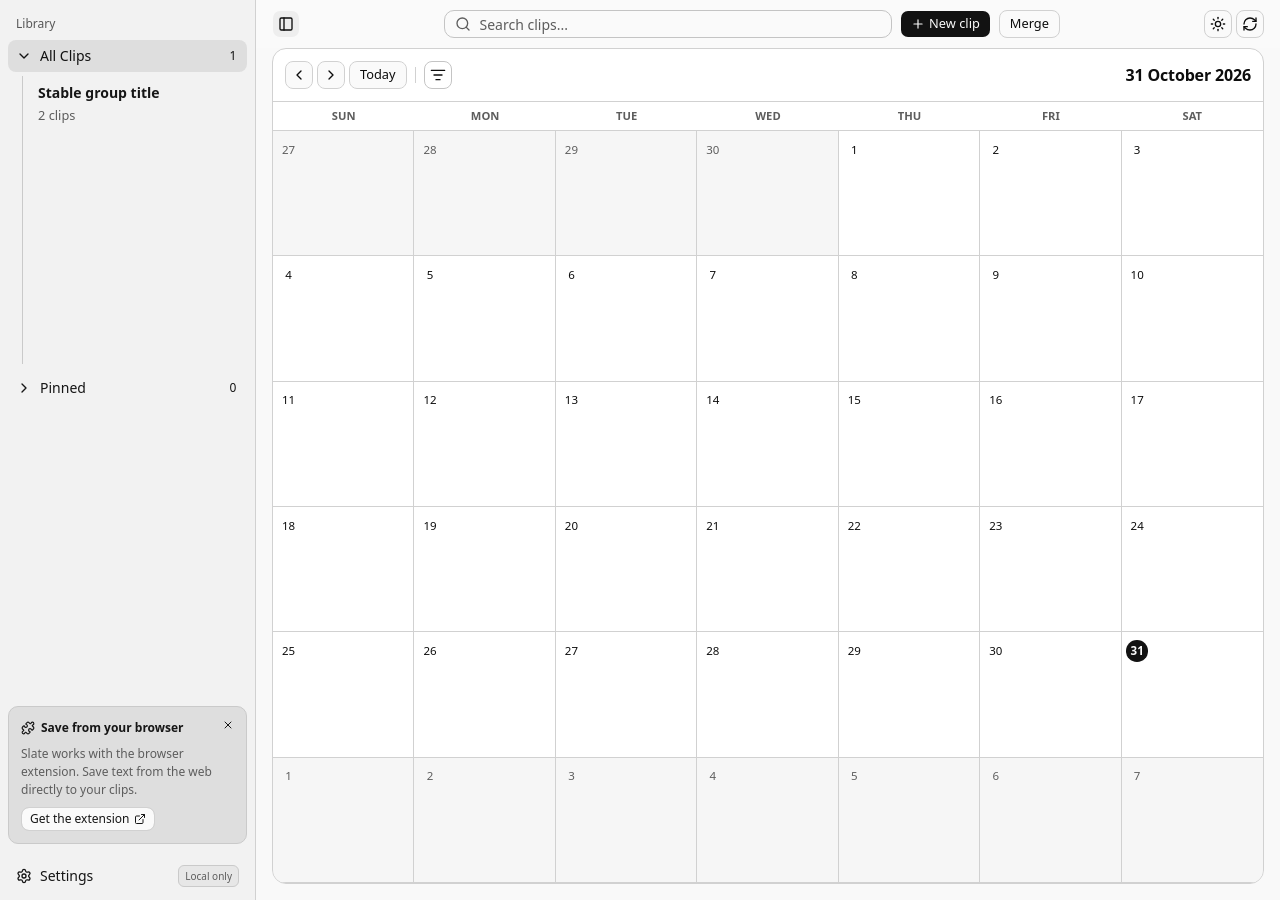
Delete merged clip waits for the shared member save and runs at most once
Step 1. Click the button "Stable group title 2 clips" → coordinates (138, 104), box [29, 76, 247, 132]
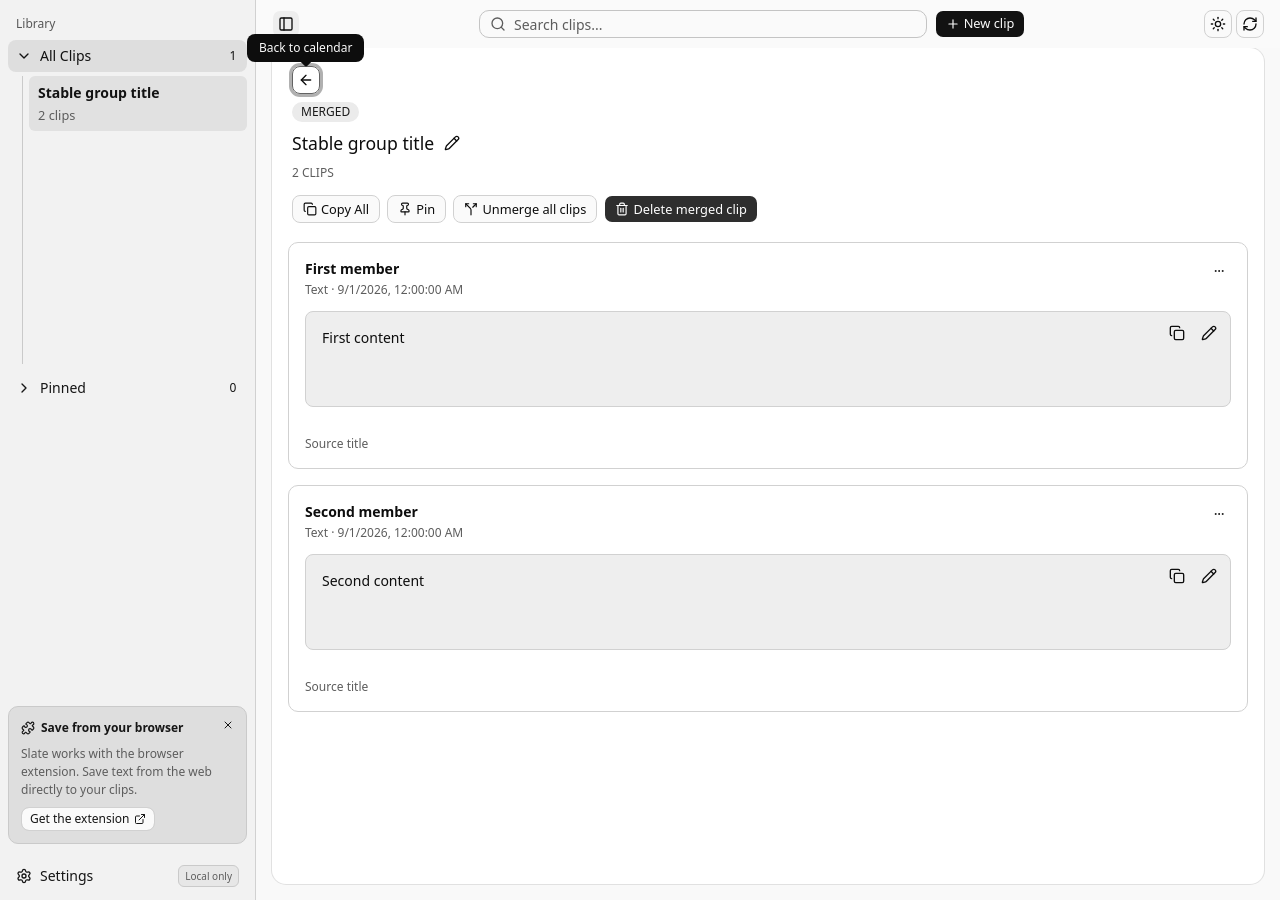
Check: the heading "Stable group title" is shown, box [292, 131, 434, 155]
Step 2. Click the button named "Edit content: First member" → coordinates (1209, 333), box [1195, 319, 1223, 347]
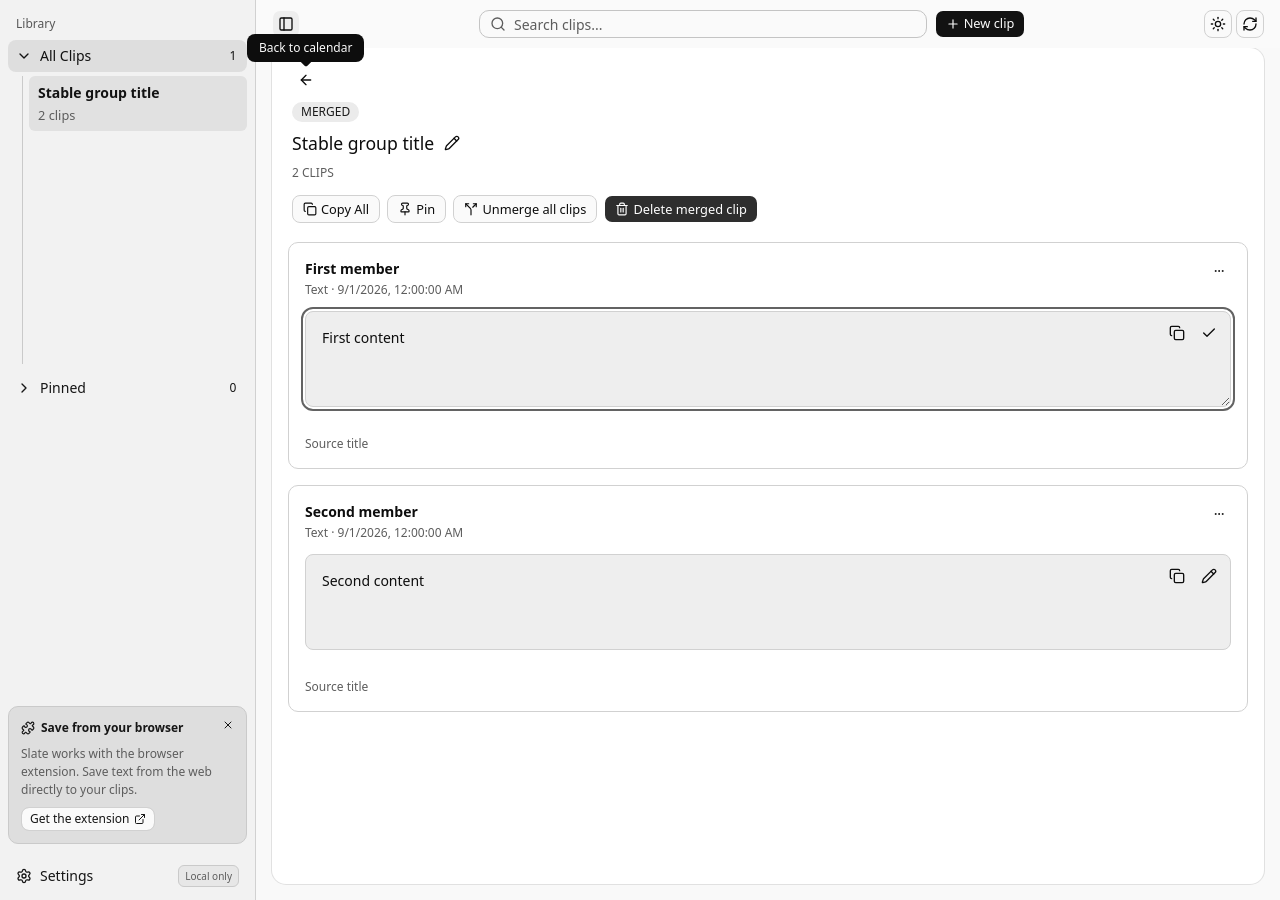
Step 3. Replace the text in the text box named "Clip content: First member" with "Edited member content" → coordinates (768, 359), box [305, 311, 1231, 407]
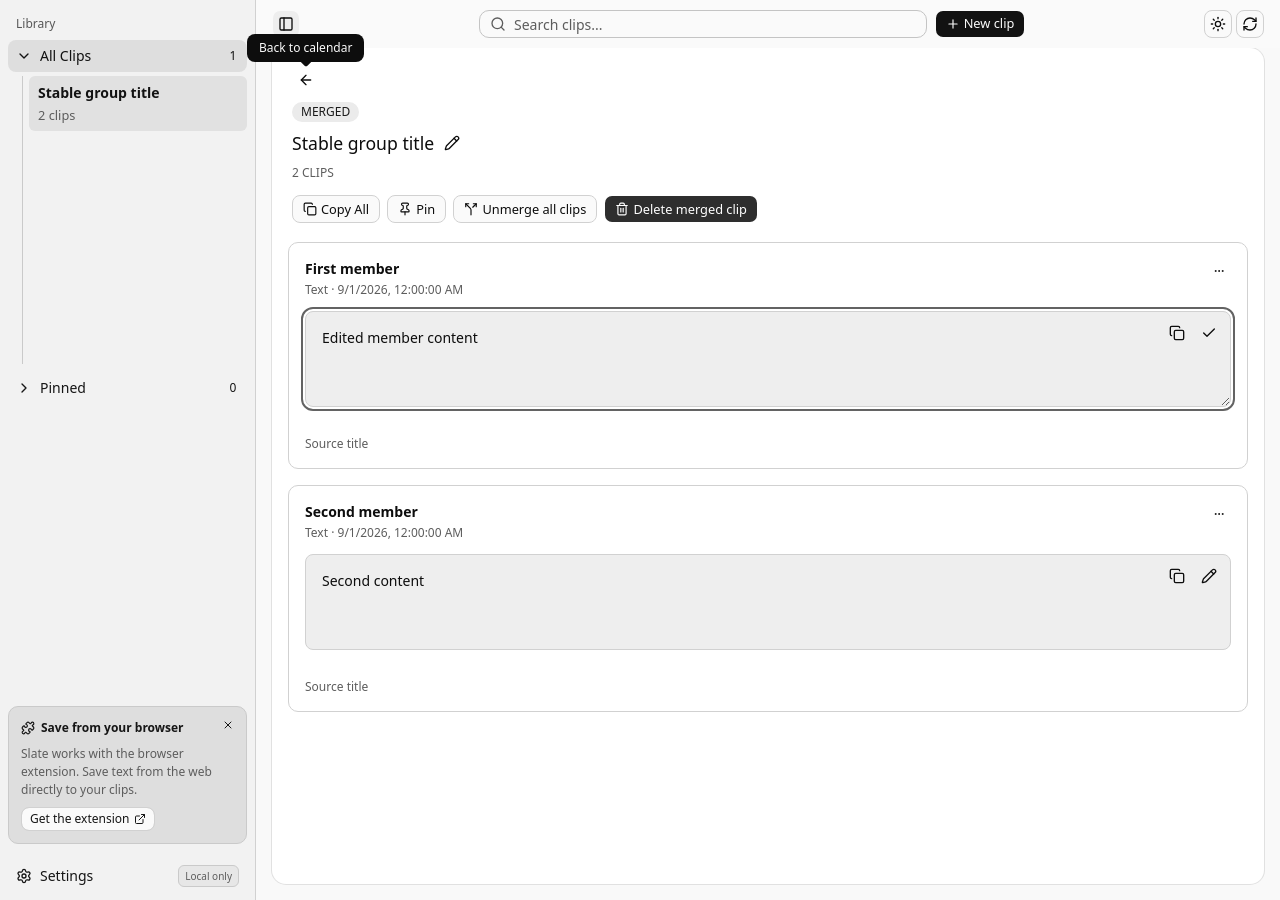
Step 4. Click the button "Delete merged clip" → coordinates (681, 210), box [604, 196, 758, 224]
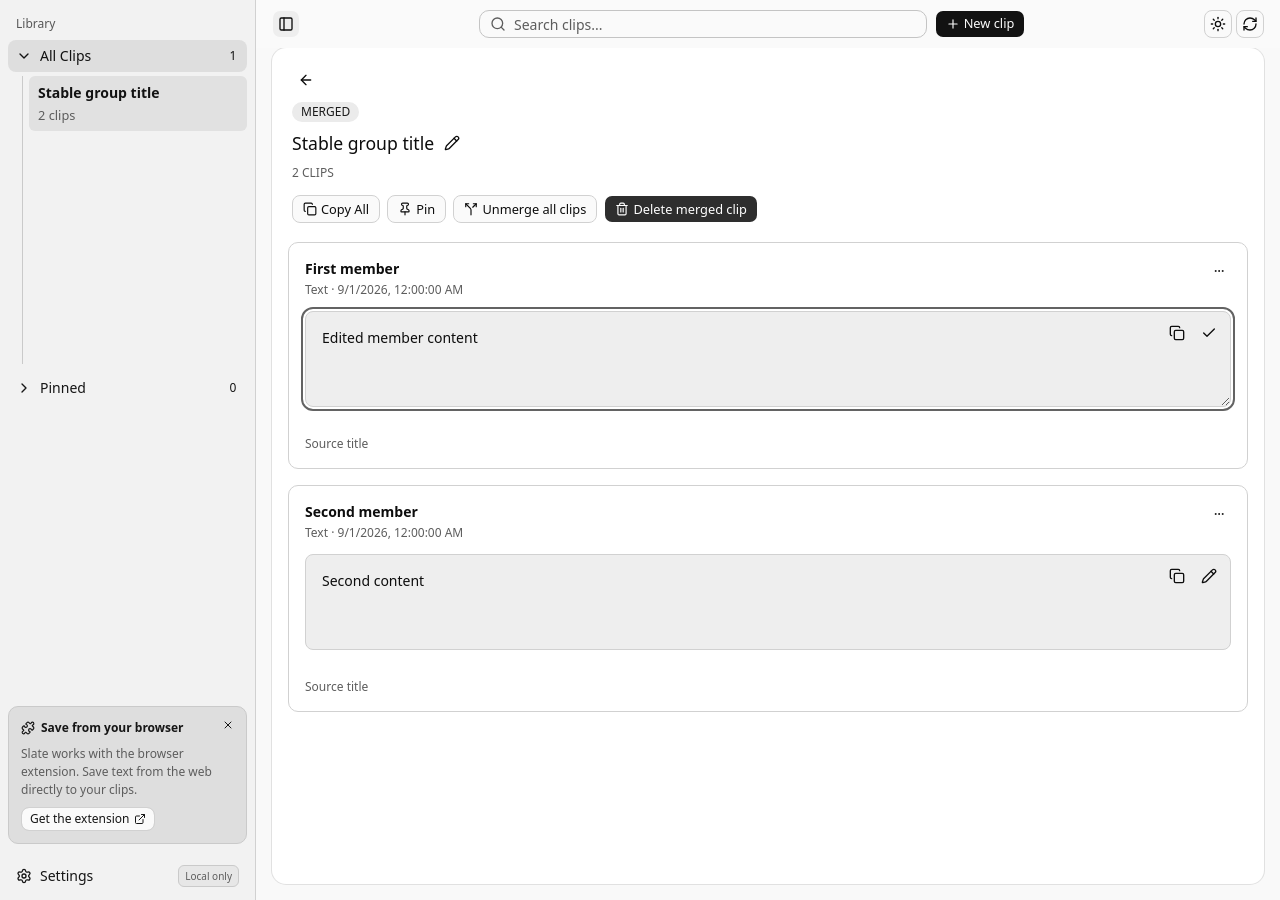
Step 5. Click the button "Delete merged clip" → coordinates (681, 210), box [604, 196, 758, 224]
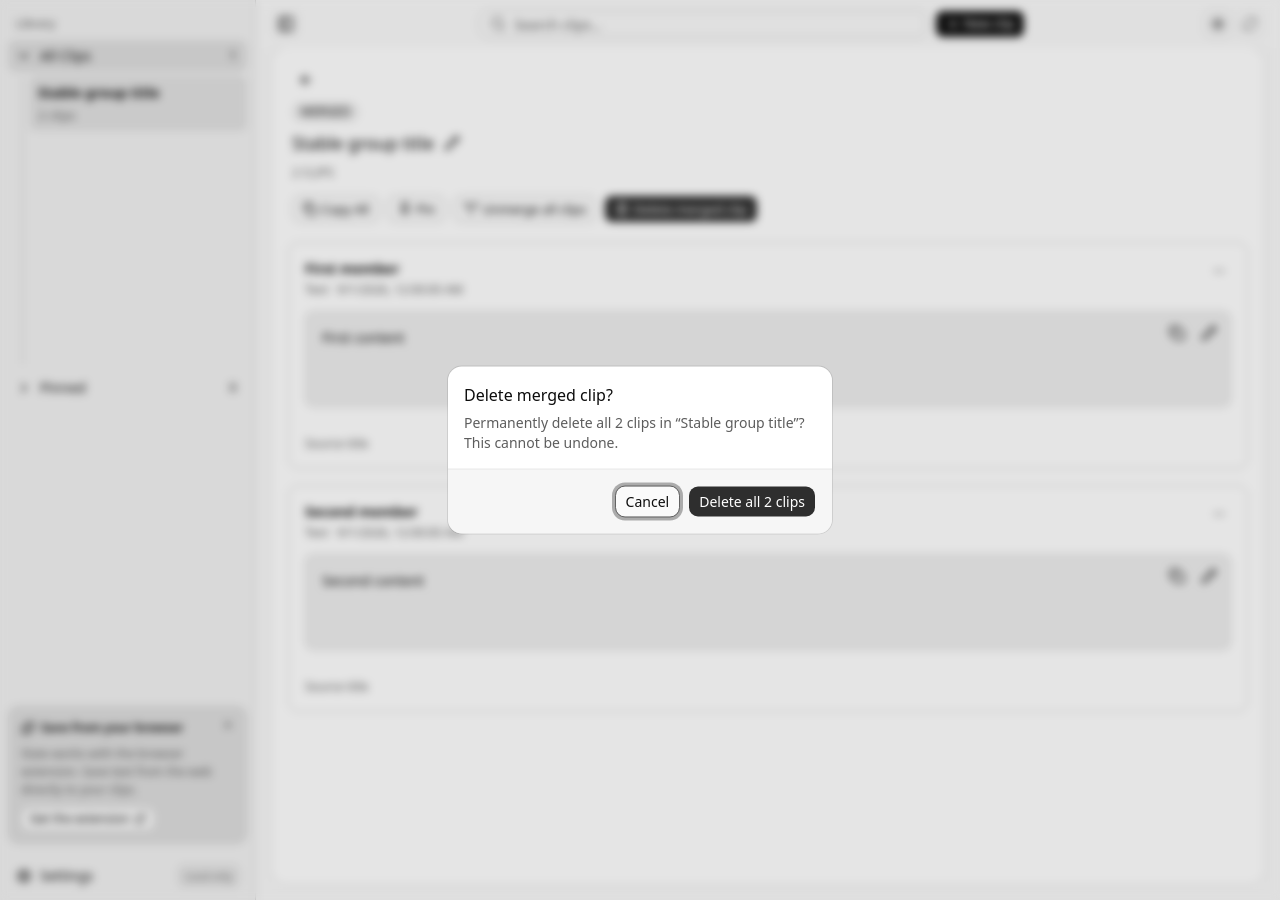
Check: the dialog is shown, box [448, 366, 832, 534]
